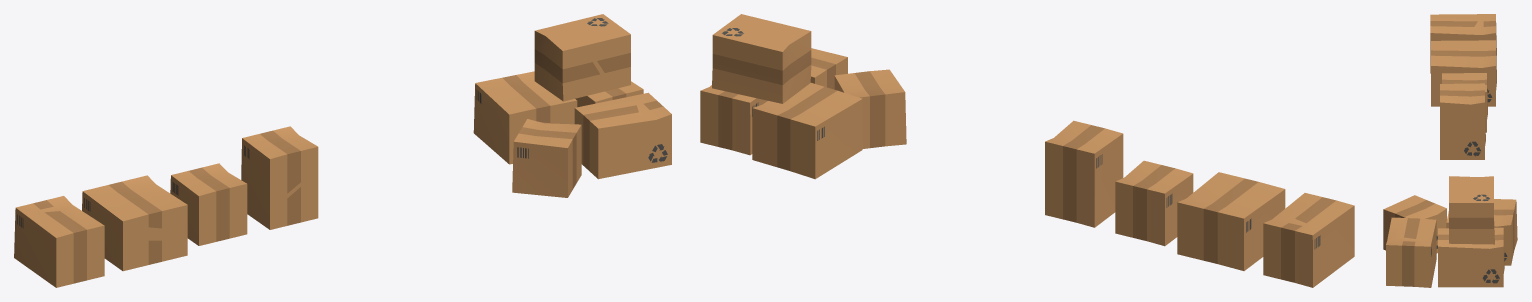
File: low_poly_toon_boxes.glb
3 views of the same model, side by side, from view 1: azimuth 30°, elevation 25°; view 2: azimuth 150°, elevation 25°; view 3: azimuth 270°, elevation 25° (orthographic). The views are drawn at different scales.
Visible parts, largest first — view 1: Cardboard Box_1_0, Cardboard Box_3.001_6, Cardboard Box_3_2, Cardboard Box_4.002_8, Cardboard Box_4_3, Cardboard Box_1.001_4, Cardboard Box_2.001_5, Cardboard Box_2_1, Cardboard Box_4.001_7; view 2: Cardboard Box_1.001_4, Cardboard Box_1_0, Cardboard Box_3.001_6, Cardboard Box_3_2, Cardboard Box_4_3, Cardboard Box_2_1, Cardboard Box_2.001_5, Cardboard Box_4.001_7, Cardboard Box_4.002_8; view 3: Cardboard Box_3_2, Cardboard Box_4.002_8, Cardboard Box_4.001_7, Cardboard Box_3.001_6, Cardboard Box_1_0, Cardboard Box_4_3, Cardboard Box_2.001_5, Cardboard Box_1.001_4, Cardboard Box_2_1.
Part boxes in pixels (x1,y1,x2,y2): Cardboard Box_1_0: (82, 175, 187, 271); Cardboard Box_3.001_6: (534, 14, 630, 101); Cardboard Box_3_2: (241, 126, 318, 229); Cardboard Box_4.002_8: (574, 92, 671, 179); Cardboard Box_4_3: (14, 196, 104, 287); Cardboard Box_1.001_4: (473, 71, 577, 164); Cardboard Box_2.001_5: (512, 119, 581, 197); Cardboard Box_2_1: (170, 163, 247, 245); Cardboard Box_4.001_7: (575, 81, 643, 107); Cardboard Box_1.001_4: (752, 83, 862, 179); Cardboard Box_1_0: (1177, 172, 1285, 270); Cardboard Box_3.001_6: (712, 14, 811, 103); Cardboard Box_3_2: (1045, 120, 1123, 227); Cardboard Box_4_3: (1263, 193, 1354, 287); Cardboard Box_2_1: (1115, 160, 1193, 246); Cardboard Box_2.001_5: (834, 69, 906, 148); Cardboard Box_4.001_7: (700, 85, 767, 155); Cardboard Box_4.002_8: (810, 48, 847, 89); Cardboard Box_3_2: (1440, 83, 1485, 159); Cardboard Box_4.002_8: (1386, 217, 1436, 287); Cardboard Box_4.001_7: (1438, 227, 1504, 287); Cardboard Box_3.001_6: (1449, 176, 1494, 244); Cardboard Box_1_0: (1431, 40, 1496, 106); Cardboard Box_4_3: (1430, 14, 1496, 73); Cardboard Box_2.001_5: (1383, 195, 1446, 253); Cardboard Box_1.001_4: (1446, 199, 1517, 265); Cardboard Box_2_1: (1442, 73, 1487, 132).
Bounding box in the file's own units: 6.08 × 1.06 × 1.48.
1 material, 1 textured.
